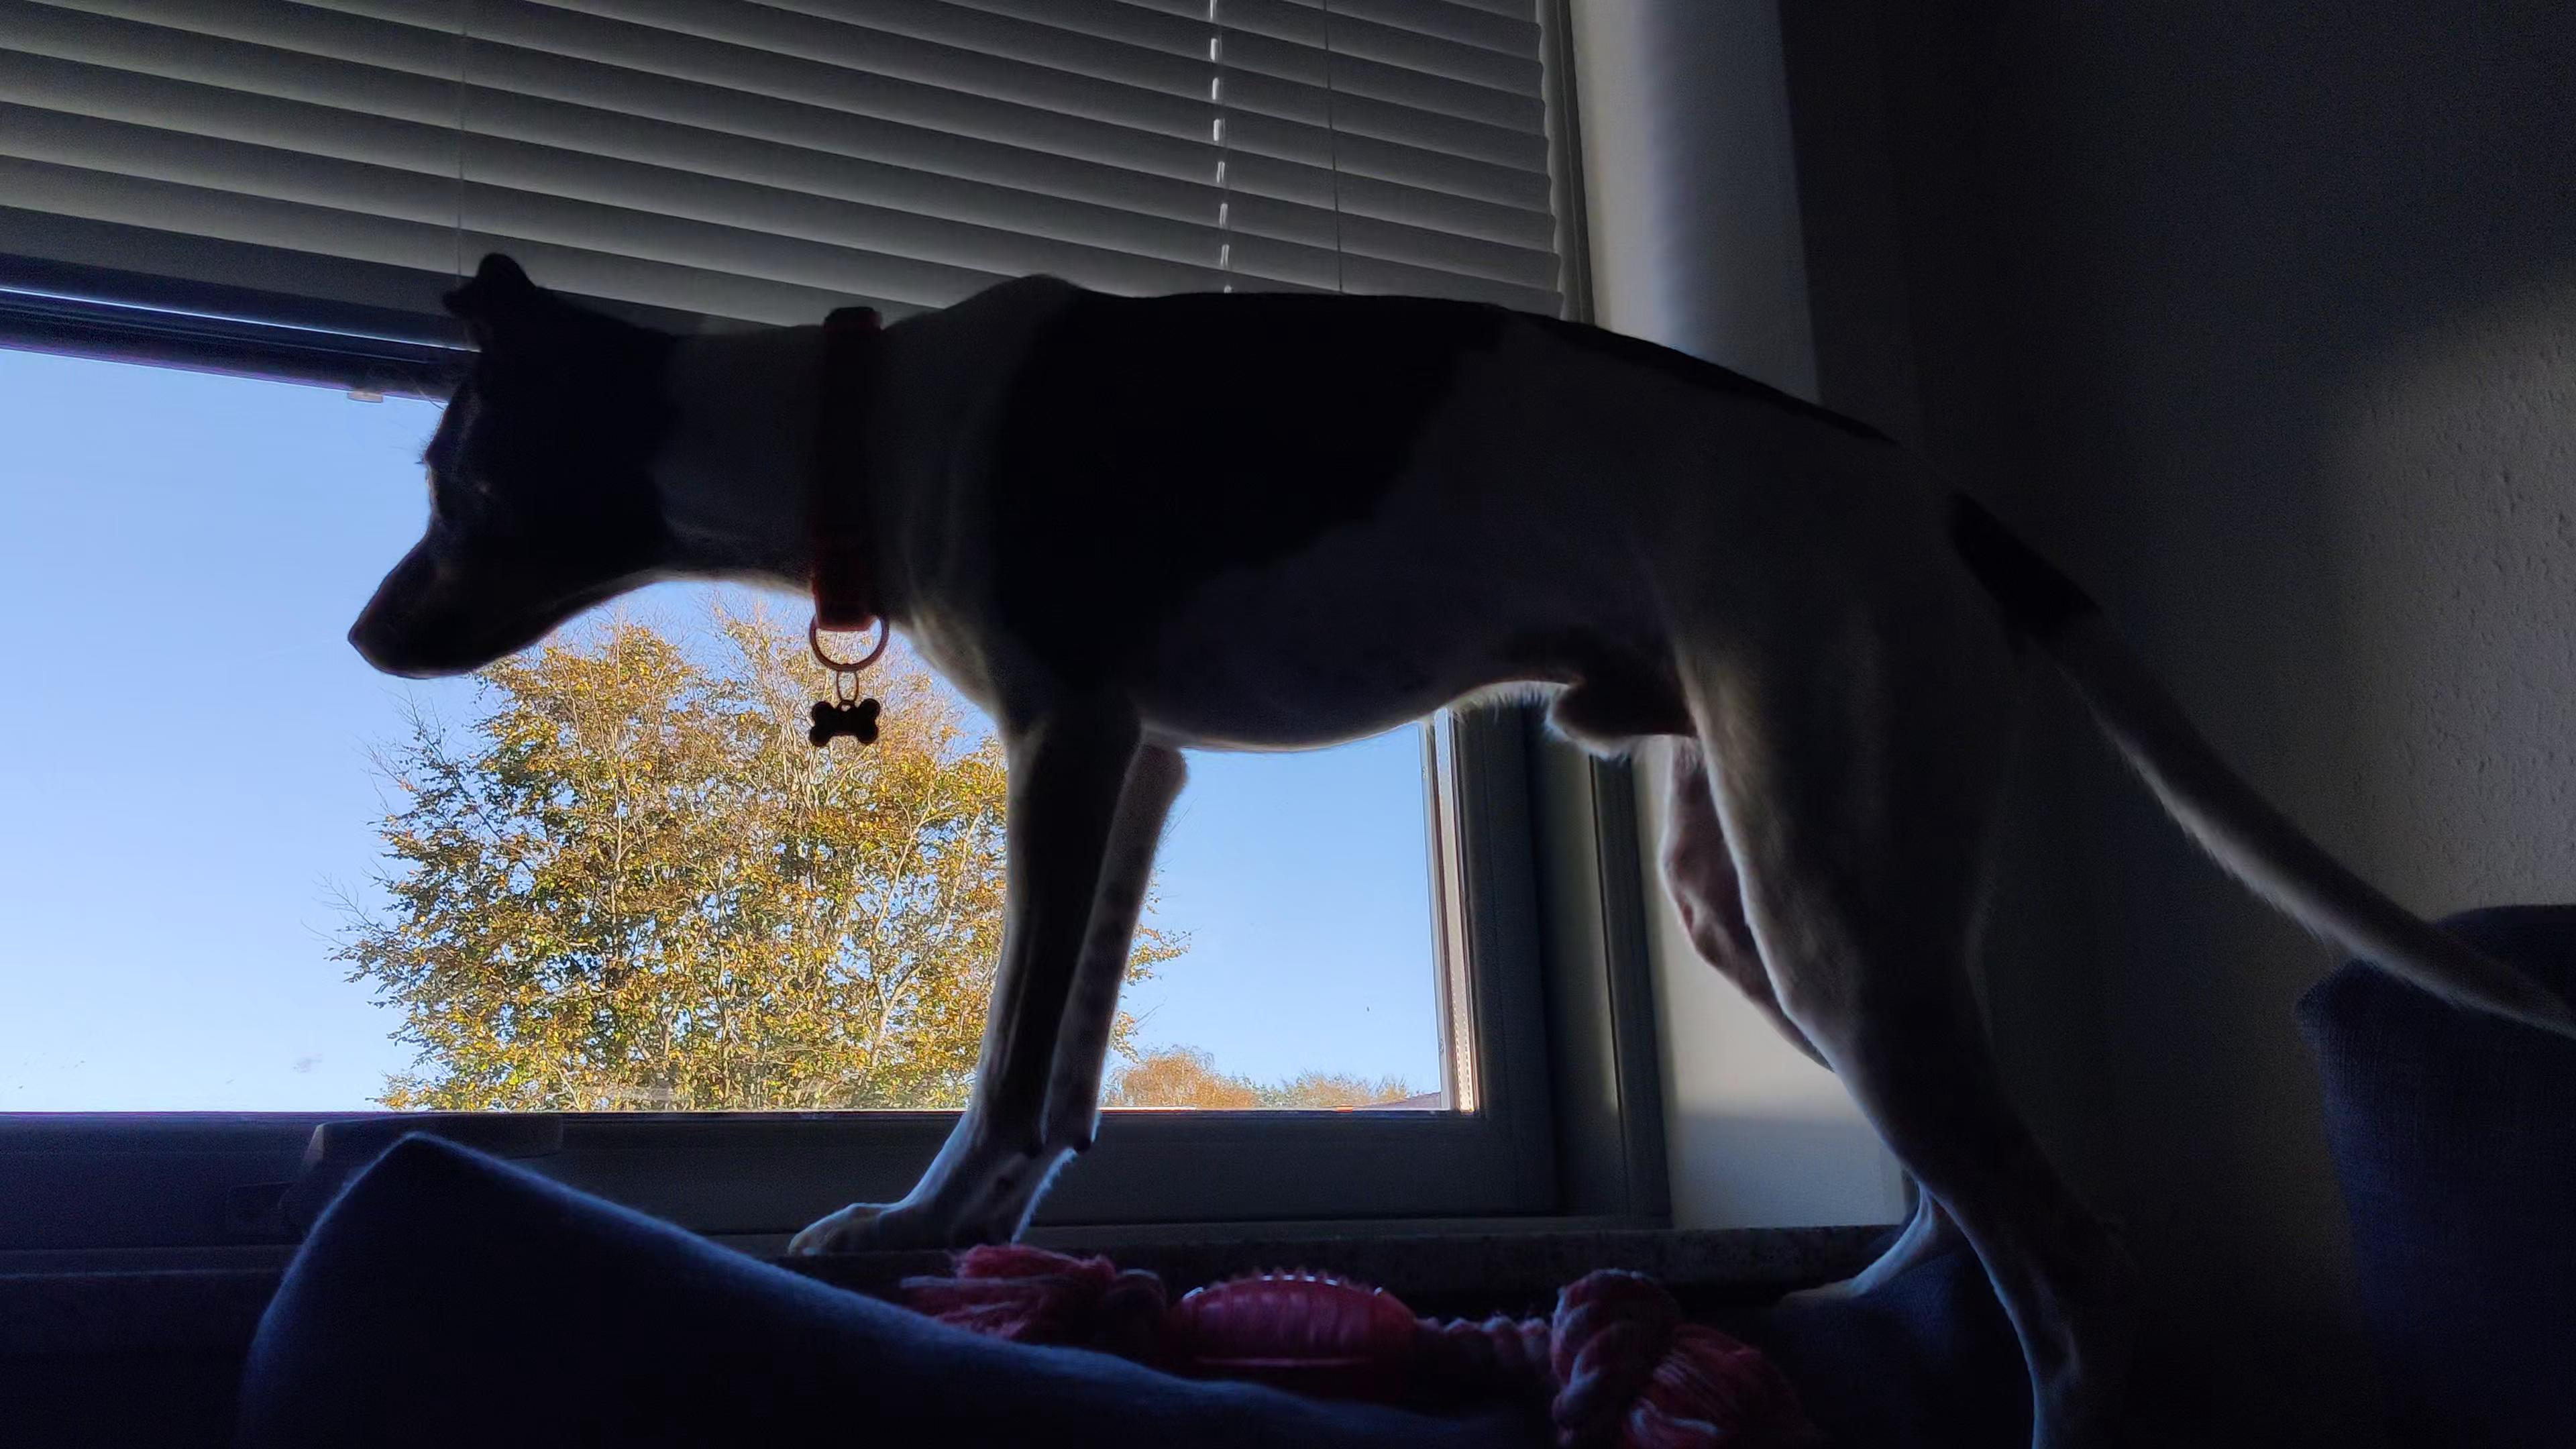Dog: (345, 248, 2576, 1449)
